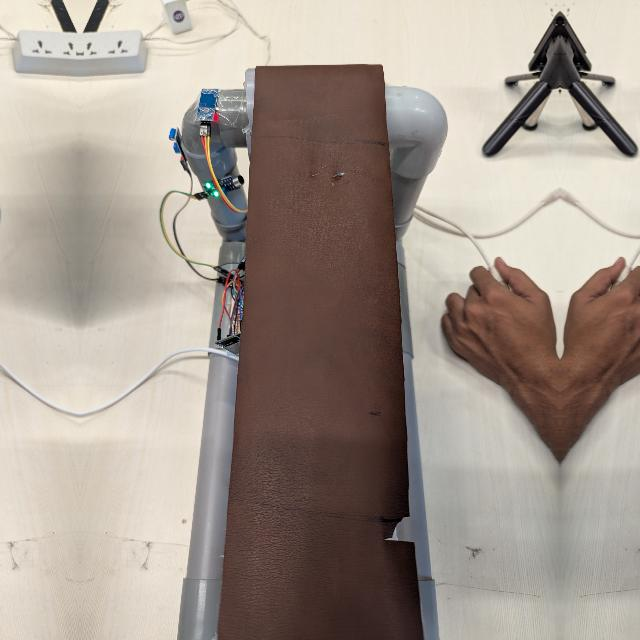belt_crack: (297, 158, 381, 195)
belt_tear: (383, 484, 428, 573)
